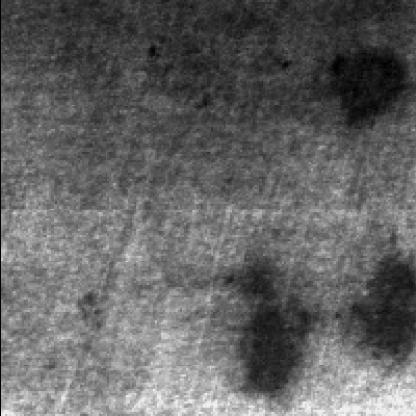patches: (218, 262, 322, 400), (310, 37, 408, 127), (337, 250, 414, 364)
